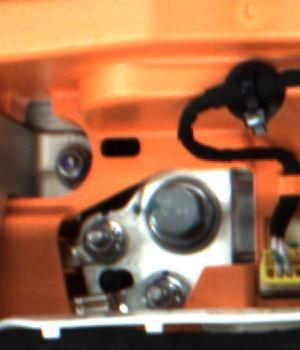nut_b: (143, 174, 221, 260)
